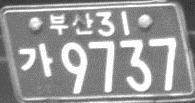1: (118, 9, 131, 36)
3: (117, 39, 152, 93), (94, 10, 115, 38)
7: (86, 39, 117, 94), (147, 36, 177, 92)
9: (60, 41, 87, 94)
가: (17, 42, 53, 78)
부산_O: (48, 12, 93, 36)
